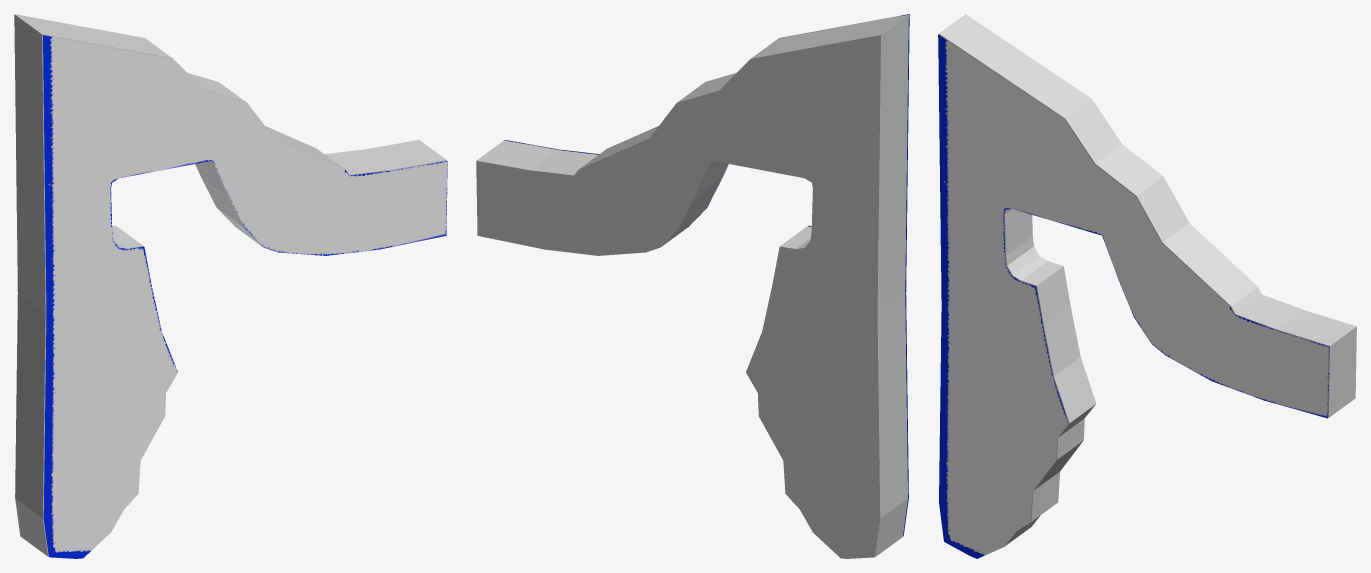
3 renders of one model, left to right at view 1: azimuth 30°, elevation 25°; view 2: azimuth 150°, elevation 25°; view 3: azimuth 330°, elevation 25°, orthographic. The views are drawn at different scales.
Parts seen in each view (by area): view 1: Out_2_1, Out_2_0; view 2: Out_2_0, Out_2_1; view 3: Out_2_1, Out_2_0.
Boxes of the visible parts, x1=… form: Out_2_1: x1=42, y1=35, x2=447, y2=558; Out_2_0: x1=14, y1=14, x2=446, y2=556; Out_2_0: x1=476, y1=14, x2=908, y2=558; Out_2_1: x1=504, y1=14, x2=909, y2=536; Out_2_1: x1=938, y1=34, x2=1329, y2=558; Out_2_0: x1=939, y1=14, x2=1356, y2=546.
Size of the model in its own units: 4.21 by 5.3 by 0.515.
Materials: 2 (1 with a texture image).
